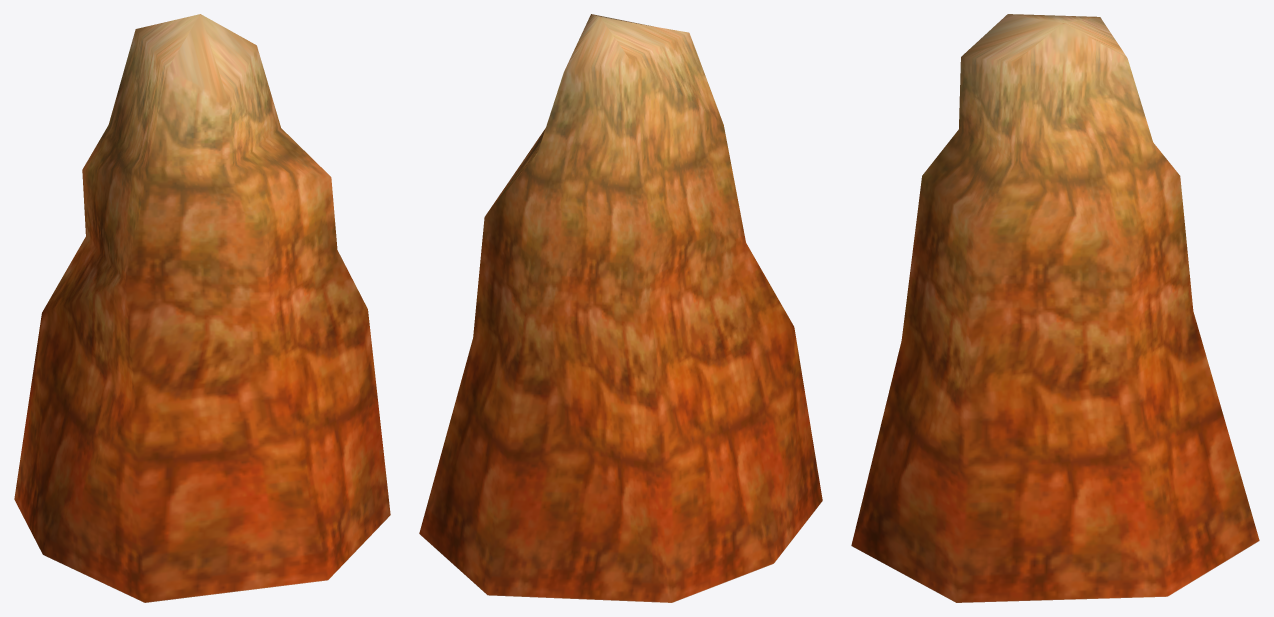
File: durotarrock06.obj
The picture shows the model from 3 angles, left to right: view 1: azimuth 30°, elevation 25°; view 2: azimuth 150°, elevation 25°; view 3: azimuth 270°, elevation 25°; orthographic projection. The views are drawn at different scales.
Parts seen in each view (by area): view 1: DurotarRock06; view 2: DurotarRock06; view 3: DurotarRock06.
Boxes of the visible parts, box(x1,y1,x2,y2) form: DurotarRock06: box(14, 14, 390, 602); DurotarRock06: box(419, 14, 822, 602); DurotarRock06: box(851, 14, 1259, 602).
Size of the model in its own units: 4.81 by 7.58 by 5.5.
1 material, 1 textured.
